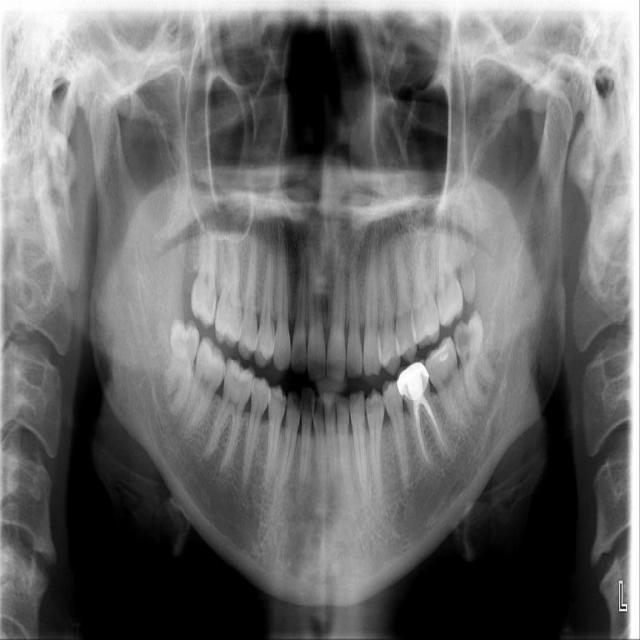52: (414, 332, 467, 387), (388, 354, 442, 407), (457, 331, 470, 370)
73: (403, 387, 453, 467), (591, 561, 607, 587)
BioHorizons Implant: (430, 208, 465, 328)
BioLife Implant: (452, 232, 481, 308)
Biomet 3i Implant: (447, 308, 503, 413)
Blue Sky Bio Implant: (418, 335, 480, 441)
Caries: (190, 208, 217, 331)
Implant: (176, 336, 233, 443)
Keystone Dental Implant: (155, 317, 203, 419)
